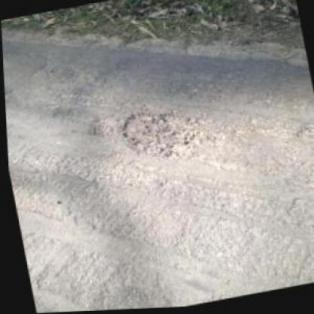Hueco: (116, 100, 214, 171)
